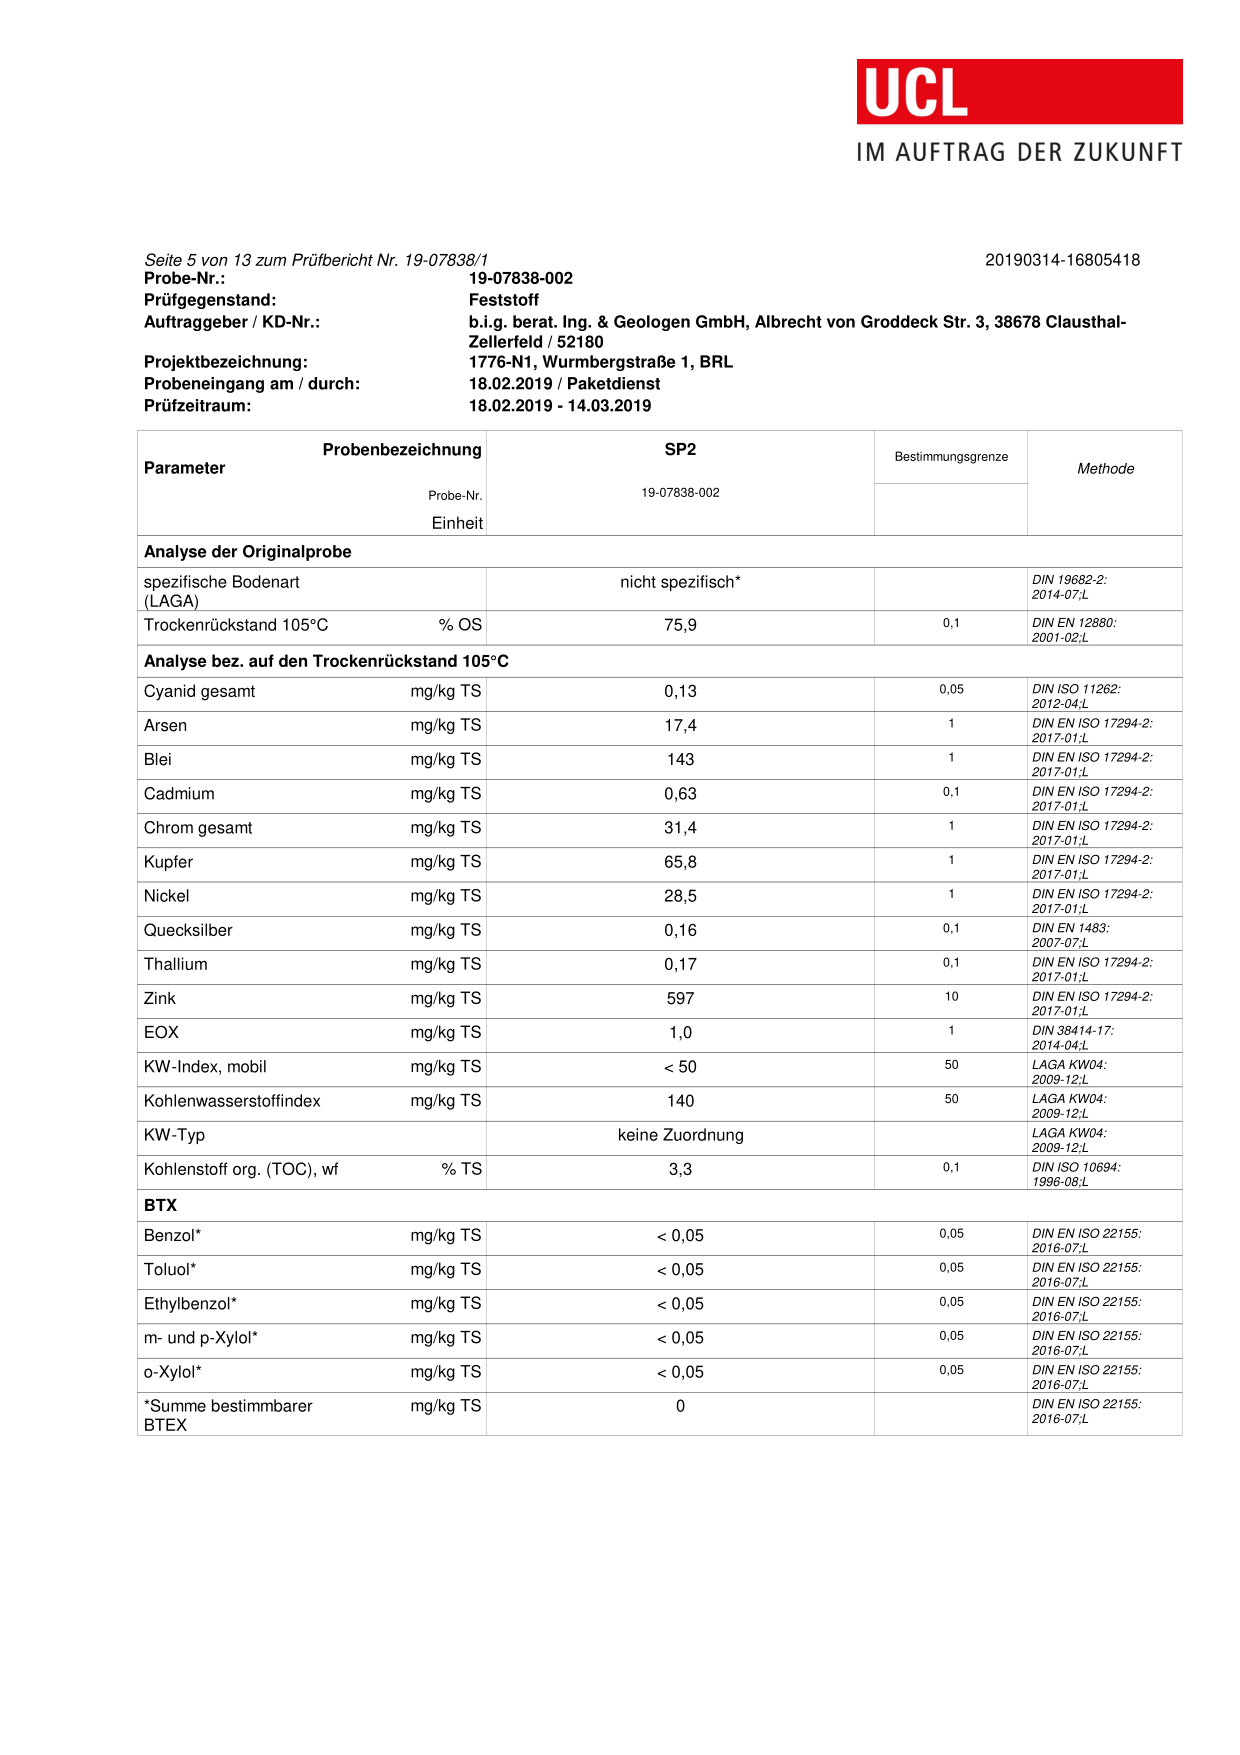table: (115, 675, 1190, 1189), (118, 1213, 1198, 1448), (115, 564, 1189, 648)
